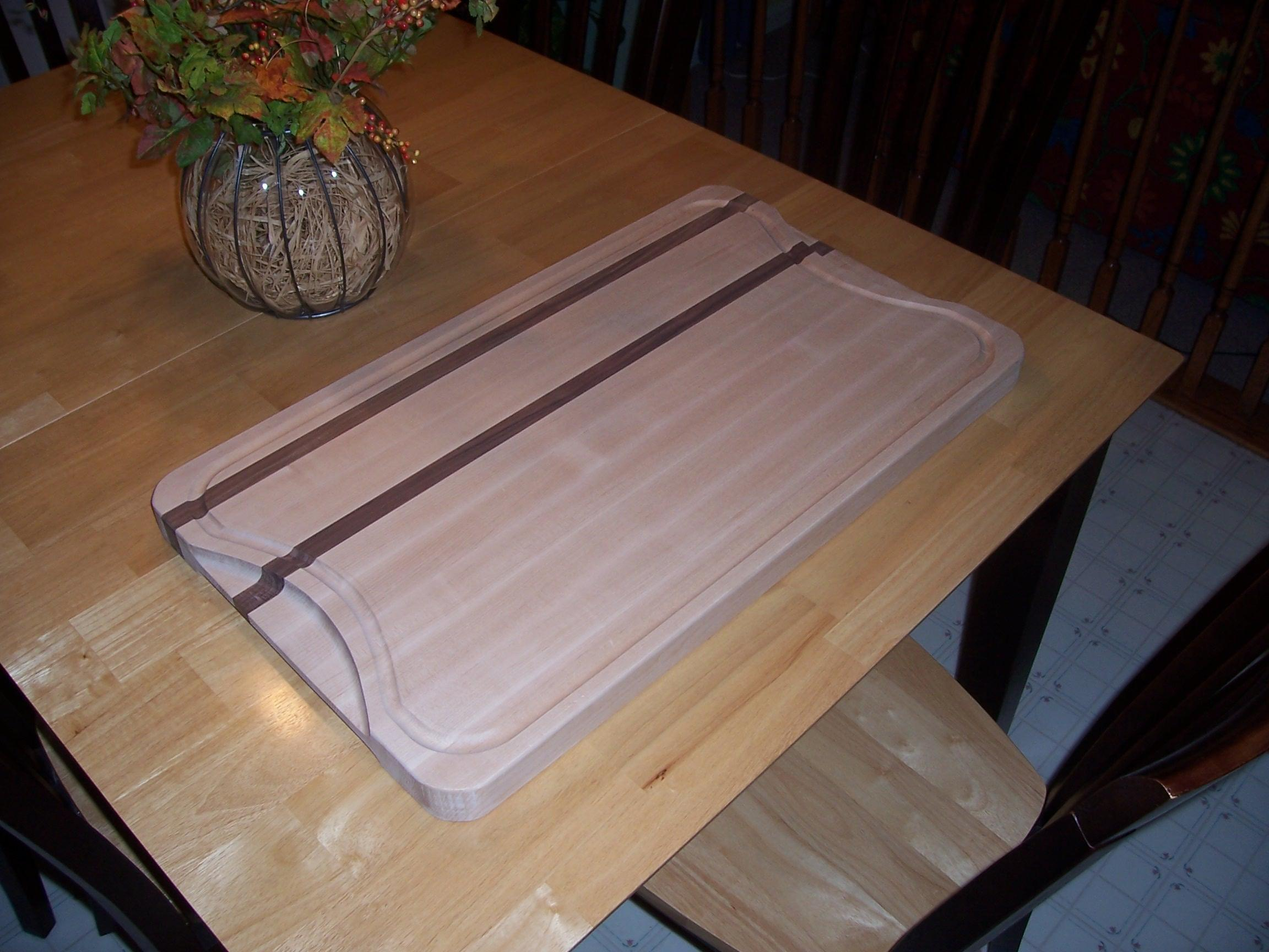gloved_hand: (144, 180, 1044, 817)
